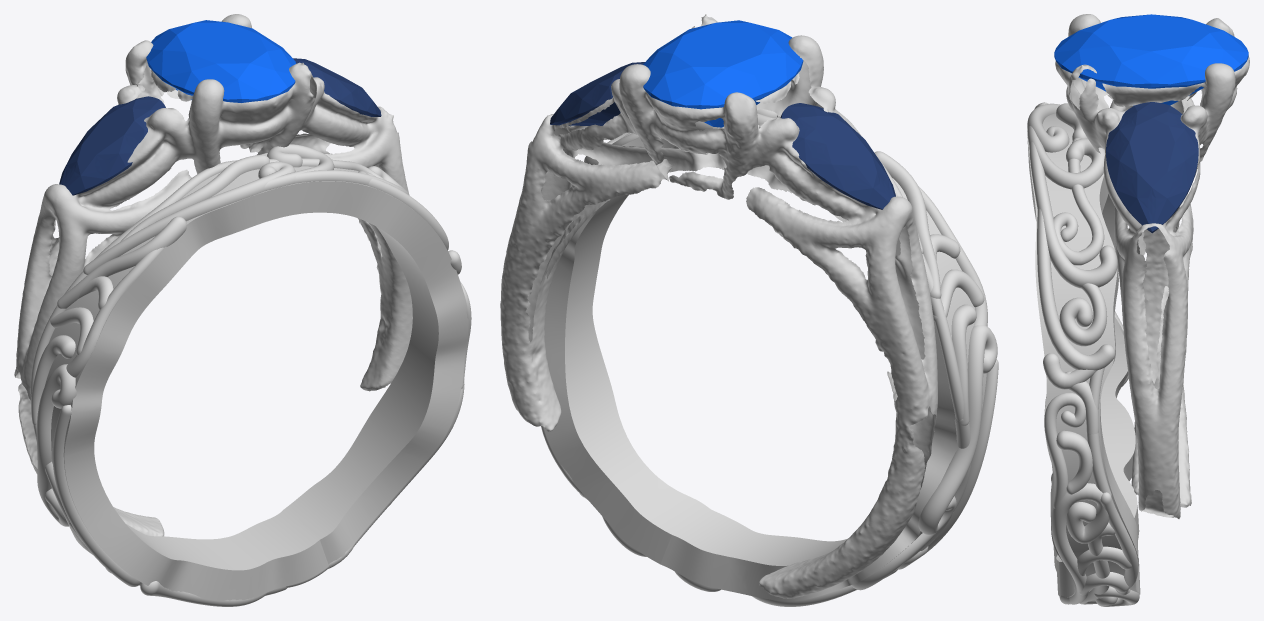
Rendered from MadisonPTwbnature_blender.glb.
3 renders of one model, left to right at view 1: azimuth 30°, elevation 25°; view 2: azimuth 150°, elevation 25°; view 3: azimuth 270°, elevation 25°, orthographic. The views are drawn at different scales.
Visible parts, largest first — view 1: Madison PT for 3d model, Madison sapphire for 3d model, Madison tanzanite for 3d model, Madison tanzanite for 3d model.001; view 2: Madison PT for 3d model, Madison sapphire for 3d model, Madison tanzanite for 3d model, Madison tanzanite for 3d model.001; view 3: Madison PT for 3d model, Madison sapphire for 3d model, Madison tanzanite for 3d model.001.
Boxes of the visible parts, x1=… form: Madison PT for 3d model: x1=14, y1=14, x2=471, y2=606; Madison sapphire for 3d model: x1=146, y1=20, x2=295, y2=102; Madison tanzanite for 3d model: x1=59, y1=96, x2=165, y2=195; Madison tanzanite for 3d model.001: x1=293, y1=58, x2=381, y2=116; Madison PT for 3d model: x1=500, y1=14, x2=998, y2=606; Madison sapphire for 3d model: x1=643, y1=20, x2=803, y2=127; Madison tanzanite for 3d model: x1=780, y1=103, x2=895, y2=209; Madison tanzanite for 3d model.001: x1=550, y1=62, x2=644, y2=125; Madison PT for 3d model: x1=1027, y1=14, x2=1249, y2=606; Madison sapphire for 3d model: x1=1054, y1=14, x2=1248, y2=105; Madison tanzanite for 3d model.001: x1=1106, y1=102, x2=1198, y2=233.
Size of the model in its own units: 21.03 by 25.27 by 9.25.
